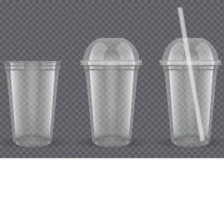glass: (153, 31, 223, 149), (77, 35, 144, 150), (2, 54, 66, 149), (172, 3, 207, 143)
